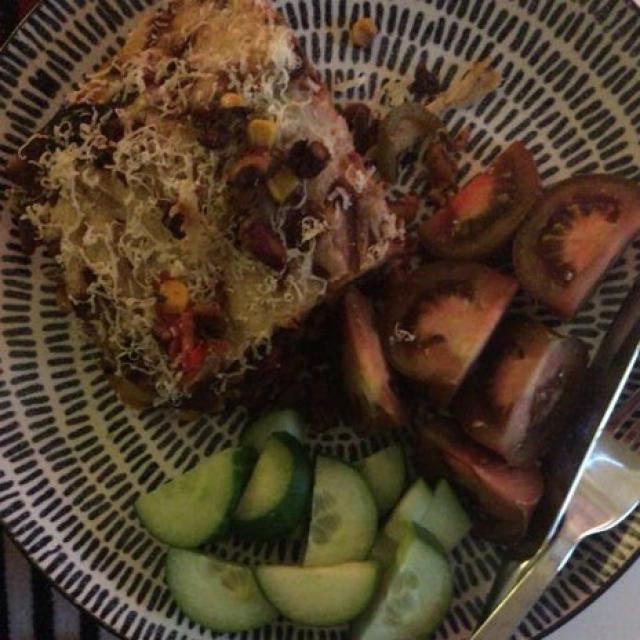cucumber: (172, 410, 481, 637)
omelette-plain: (33, 2, 409, 400)
parmesan: (52, 21, 356, 360)
tomato-raw: (335, 142, 628, 523)
